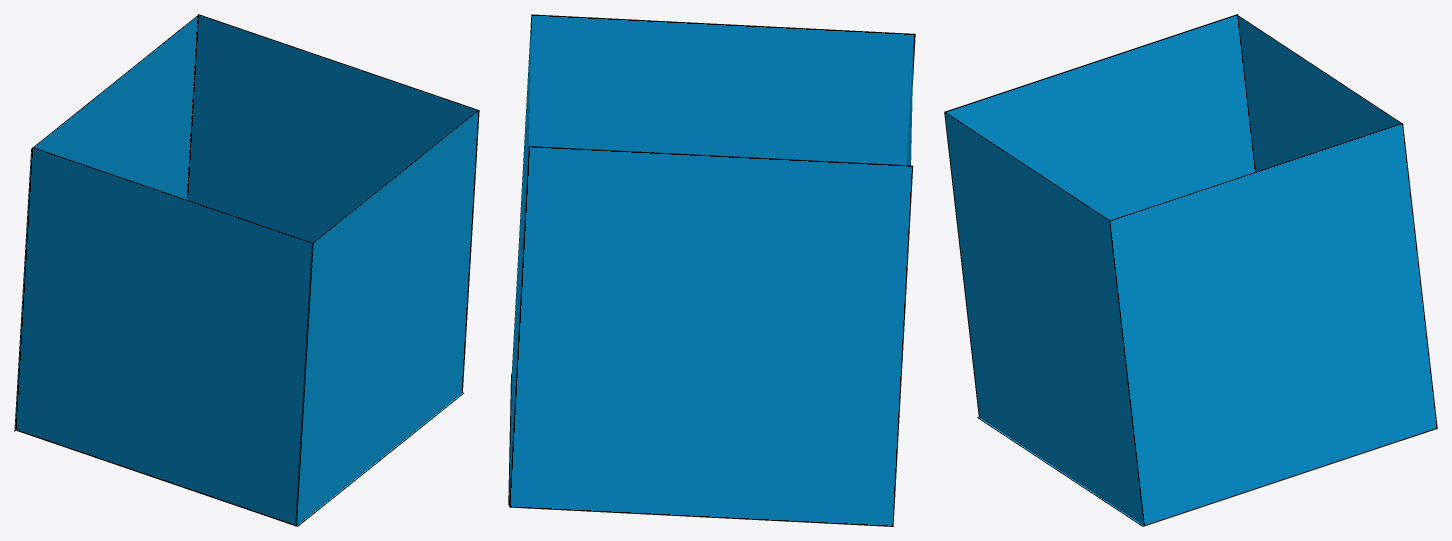
The picture shows the model from 3 angles, left to right: view 1: azimuth 30°, elevation 25°; view 2: azimuth 150°, elevation 25°; view 3: azimuth 270°, elevation 25°; orthographic projection. The views are drawn at different scales.
Visible parts, largest first — view 1: node_id8, node_id5, node_id11, node_id14, node_id17; view 2: node_id14, node_id5, node_id11; view 3: node_id11, node_id5, node_id8, node_id14, node_id17.
Part boxes in pixels (left/top/right/bottom): node_id8: left=15, top=147, right=313, bottom=525; node_id5: left=295, top=110, right=478, bottom=526; node_id11: left=187, top=14, right=479, bottom=392; node_id14: left=14, top=15, right=197, bottom=431; node_id17: left=16, top=392, right=464, bottom=526; node_id14: left=509, top=146, right=913, bottom=526; node_id5: left=511, top=14, right=915, bottom=374; node_id11: left=509, top=15, right=531, bottom=505; node_id11: left=1109, top=123, right=1437, bottom=525; node_id5: left=945, top=112, right=1144, bottom=525; node_id8: left=944, top=14, right=1255, bottom=417; node_id14: left=1238, top=15, right=1437, bottom=429; node_id17: left=977, top=417, right=1435, bottom=526.
Bounding box in the file's own units: 0.6973 × 0.5783 × 0.7423.
Materials: 5 (5 with a texture image).
